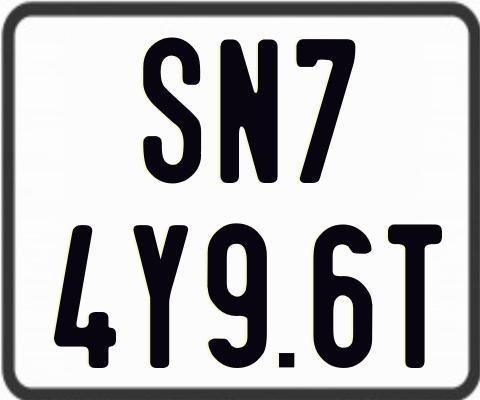4: (52, 225, 114, 373)
6: (312, 222, 376, 369)
7: (295, 38, 359, 184)
9: (204, 223, 265, 374)
N: (217, 36, 275, 186)
S: (142, 37, 204, 186)
T: (385, 224, 440, 374)
Y: (130, 225, 185, 370)
